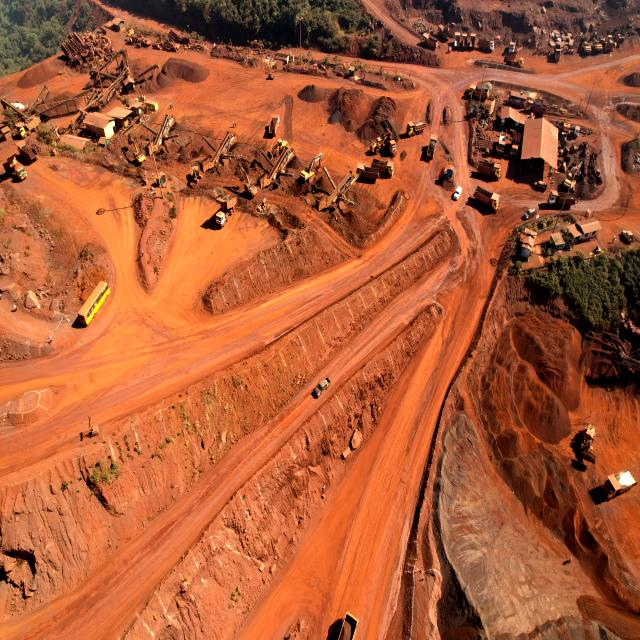Blast rig: (615, 31, 624, 44)
Dumper truck: (604, 474, 635, 504), (606, 471, 636, 501), (213, 195, 236, 226), (474, 189, 500, 211), (15, 119, 40, 139), (496, 132, 516, 156), (466, 80, 491, 99), (548, 192, 571, 210), (16, 140, 36, 160), (9, 162, 29, 181), (481, 162, 501, 179), (357, 165, 377, 181), (503, 141, 521, 158), (425, 134, 437, 157), (407, 120, 423, 137), (420, 34, 437, 49), (268, 114, 280, 135), (505, 54, 524, 67), (494, 140, 509, 156), (478, 39, 494, 52), (381, 162, 395, 176), (388, 140, 398, 155), (554, 43, 561, 60), (509, 38, 516, 52), (462, 33, 468, 49), (455, 30, 460, 47), (470, 33, 475, 49)
Excavator: (238, 161, 257, 197), (300, 154, 323, 181), (188, 164, 202, 189)
car: (314, 378, 329, 398), (620, 228, 636, 242), (452, 187, 462, 201)
person: (232, 121, 234, 127), (171, 102, 173, 107), (170, 103, 171, 108), (235, 122, 236, 127)
